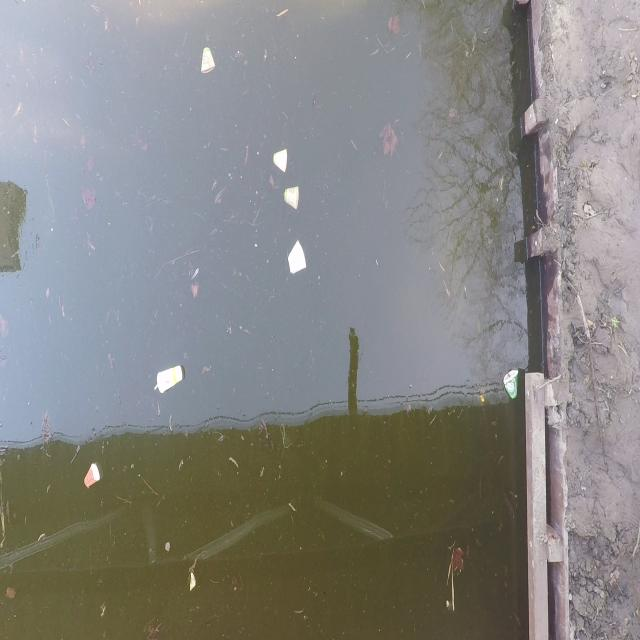Non plastique: (148, 351, 188, 402), (284, 239, 310, 280), (80, 456, 104, 492), (196, 39, 214, 83), (280, 180, 303, 214), (269, 145, 295, 175)
